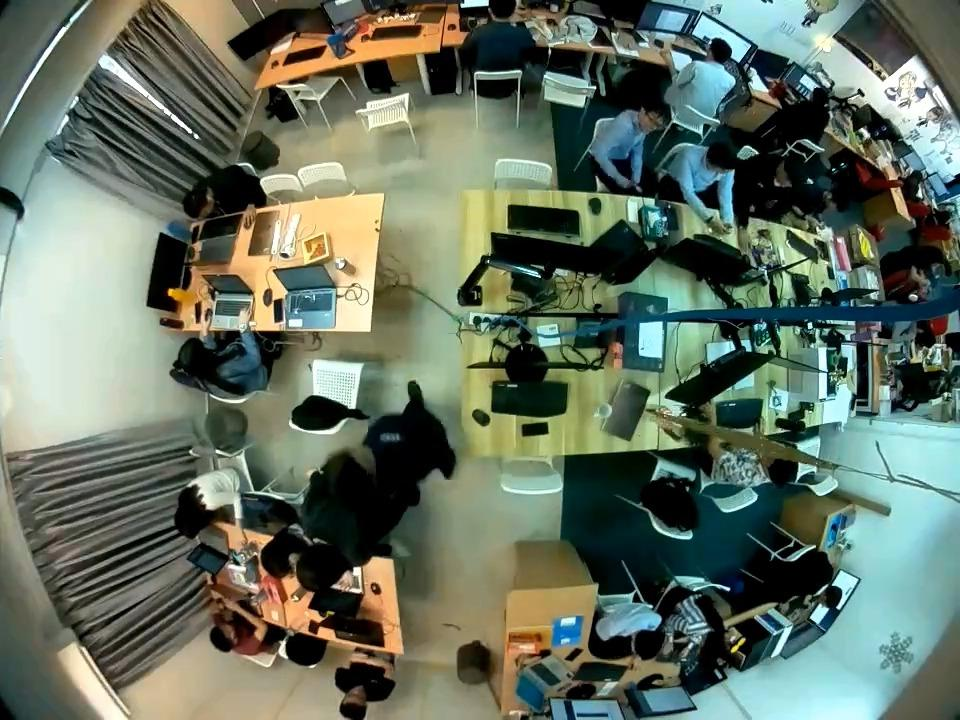name-tag: (380, 430, 402, 444)
